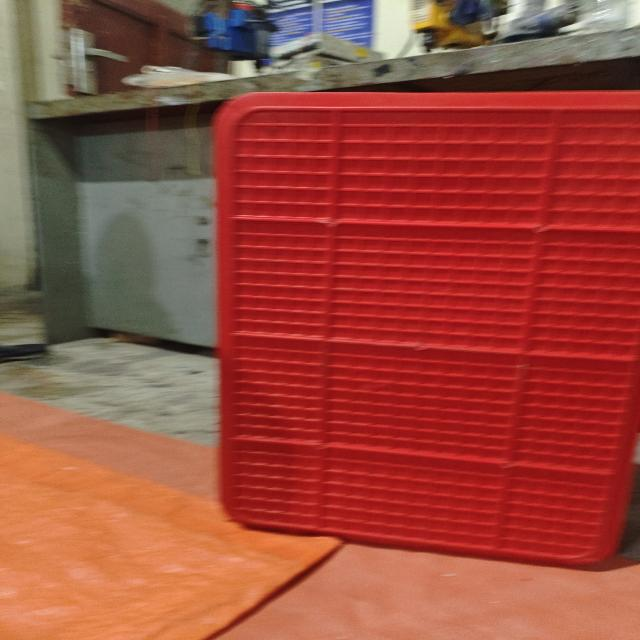red plastic box: (210, 90, 640, 568)
